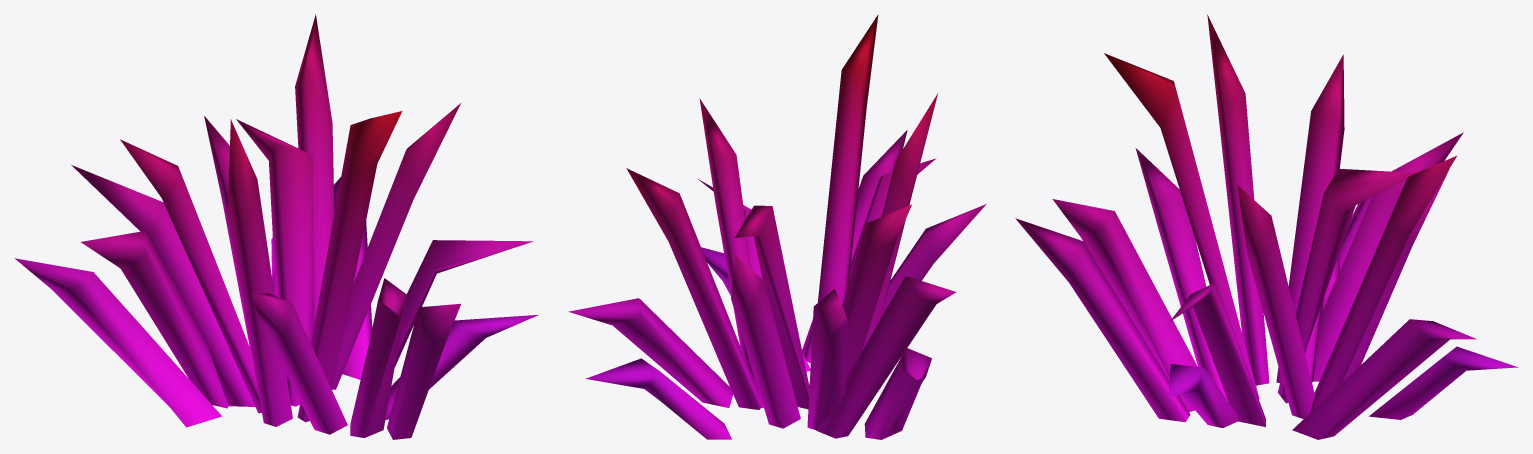
File: SM_Plant_Grass_02.fbx
3 views of the same model, side by side, from view 1: azimuth 30°, elevation 25°; view 2: azimuth 150°, elevation 25°; view 3: azimuth 270°, elevation 25° (orthographic). The views are drawn at different scales.
Visible parts, largest first — view 1: SM_Plant_Grass_02; view 2: SM_Plant_Grass_02; view 3: SM_Plant_Grass_02.
Boxes of the visible parts, x1,y1,x2,y2 form: SM_Plant_Grass_02: (15, 14, 538, 439); SM_Plant_Grass_02: (568, 14, 986, 439); SM_Plant_Grass_02: (1015, 14, 1518, 439).
Bounding box in the file's own units: 111 × 98.5 × 129.
